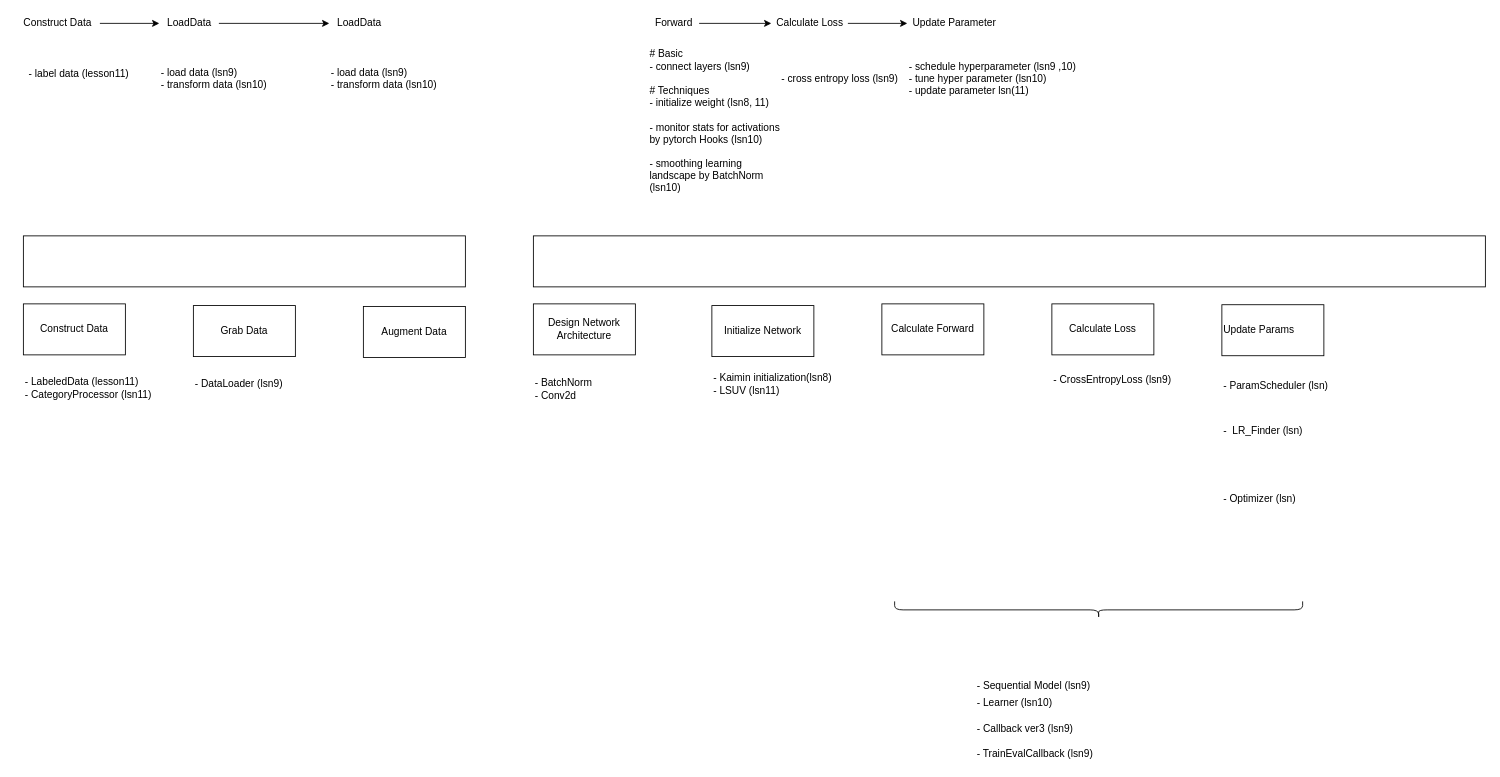
The diagram is 1500 pixels wide and 777 high, and some of its shapes have lost their labels. The centre of each missing label's shape, as x and y in pixels:
"Code Refactoring" belongs at (1098,609).
"Data" belongs at (244,261).
"Network" belongs at (1009,261).
